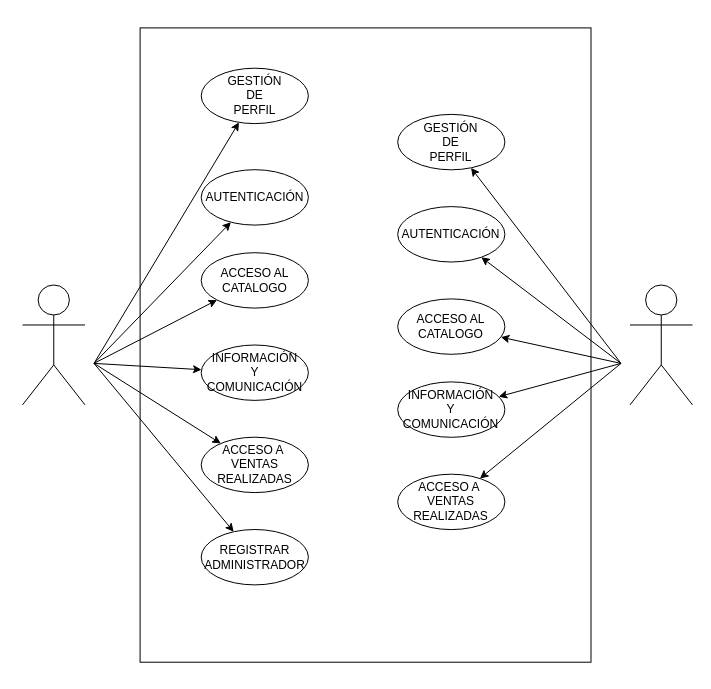
The diagram is 711 pixels wide and 689 high, and some of its shapes have lost their labels. Each missing label, with the centre of its shape:
"Administrador" goes at (53,344).
"Usuario" goes at (660,344).
